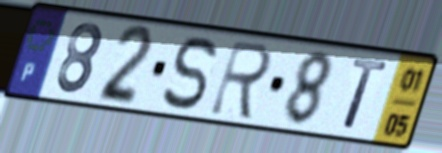2: (94, 22, 154, 109)
8: (283, 48, 335, 129), (55, 21, 104, 96)
R: (205, 37, 276, 124)
S: (159, 34, 220, 113)
T: (340, 55, 392, 134)
